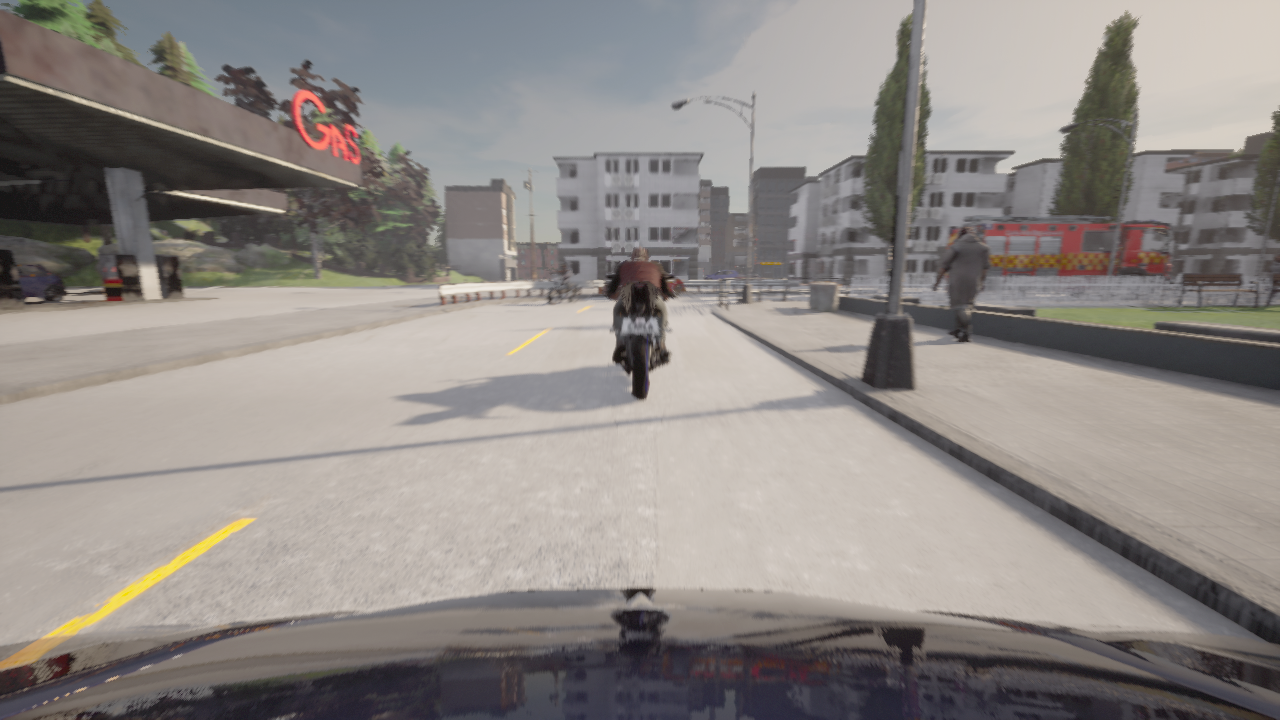cyclist: (0, 588, 1279, 719), (944, 215, 1171, 298), (605, 274, 674, 399), (600, 272, 684, 298), (16, 264, 65, 301), (546, 271, 578, 305), (1141, 276, 1172, 297), (704, 270, 738, 279), (735, 272, 762, 279), (737, 277, 738, 278)
pedestrian: (932, 225, 991, 342), (1266, 255, 1279, 301)
